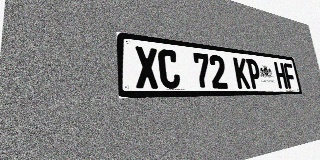2: (208, 54, 228, 89)
7: (192, 52, 212, 89)
C: (157, 48, 181, 89)
F: (283, 63, 297, 89)
H: (274, 62, 288, 89)
K: (233, 57, 250, 89)
P: (246, 59, 262, 89)
X: (134, 46, 160, 89)
